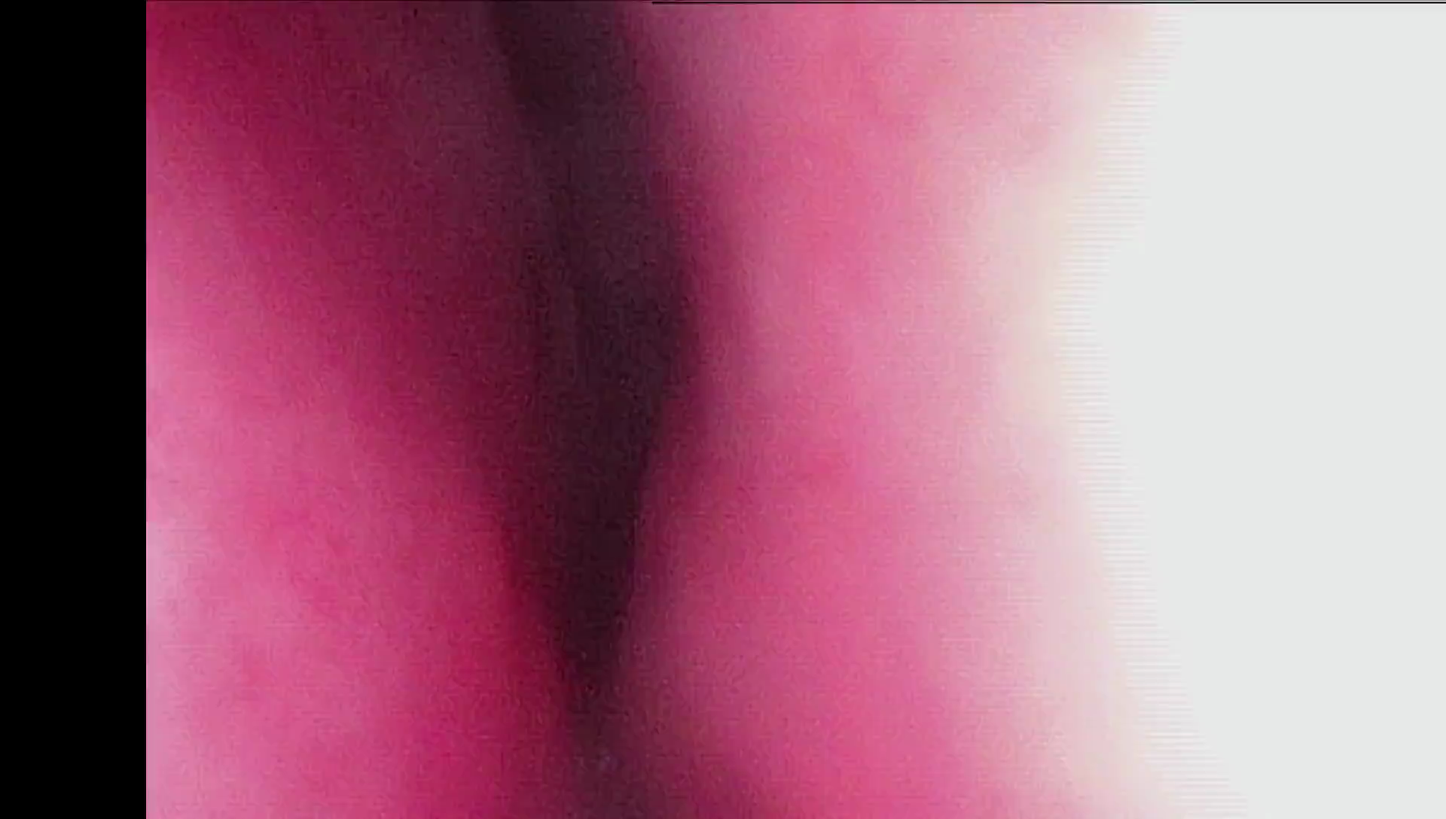close_wall: (792, 7, 1446, 819), (149, 288, 419, 819)
next: (475, 174, 727, 692)
